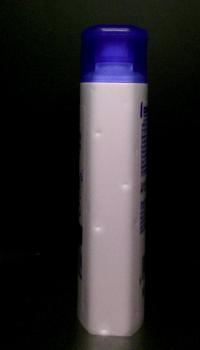dent_unacceptable: (86, 220, 110, 246), (94, 318, 115, 345), (112, 174, 133, 199), (85, 124, 108, 143)
